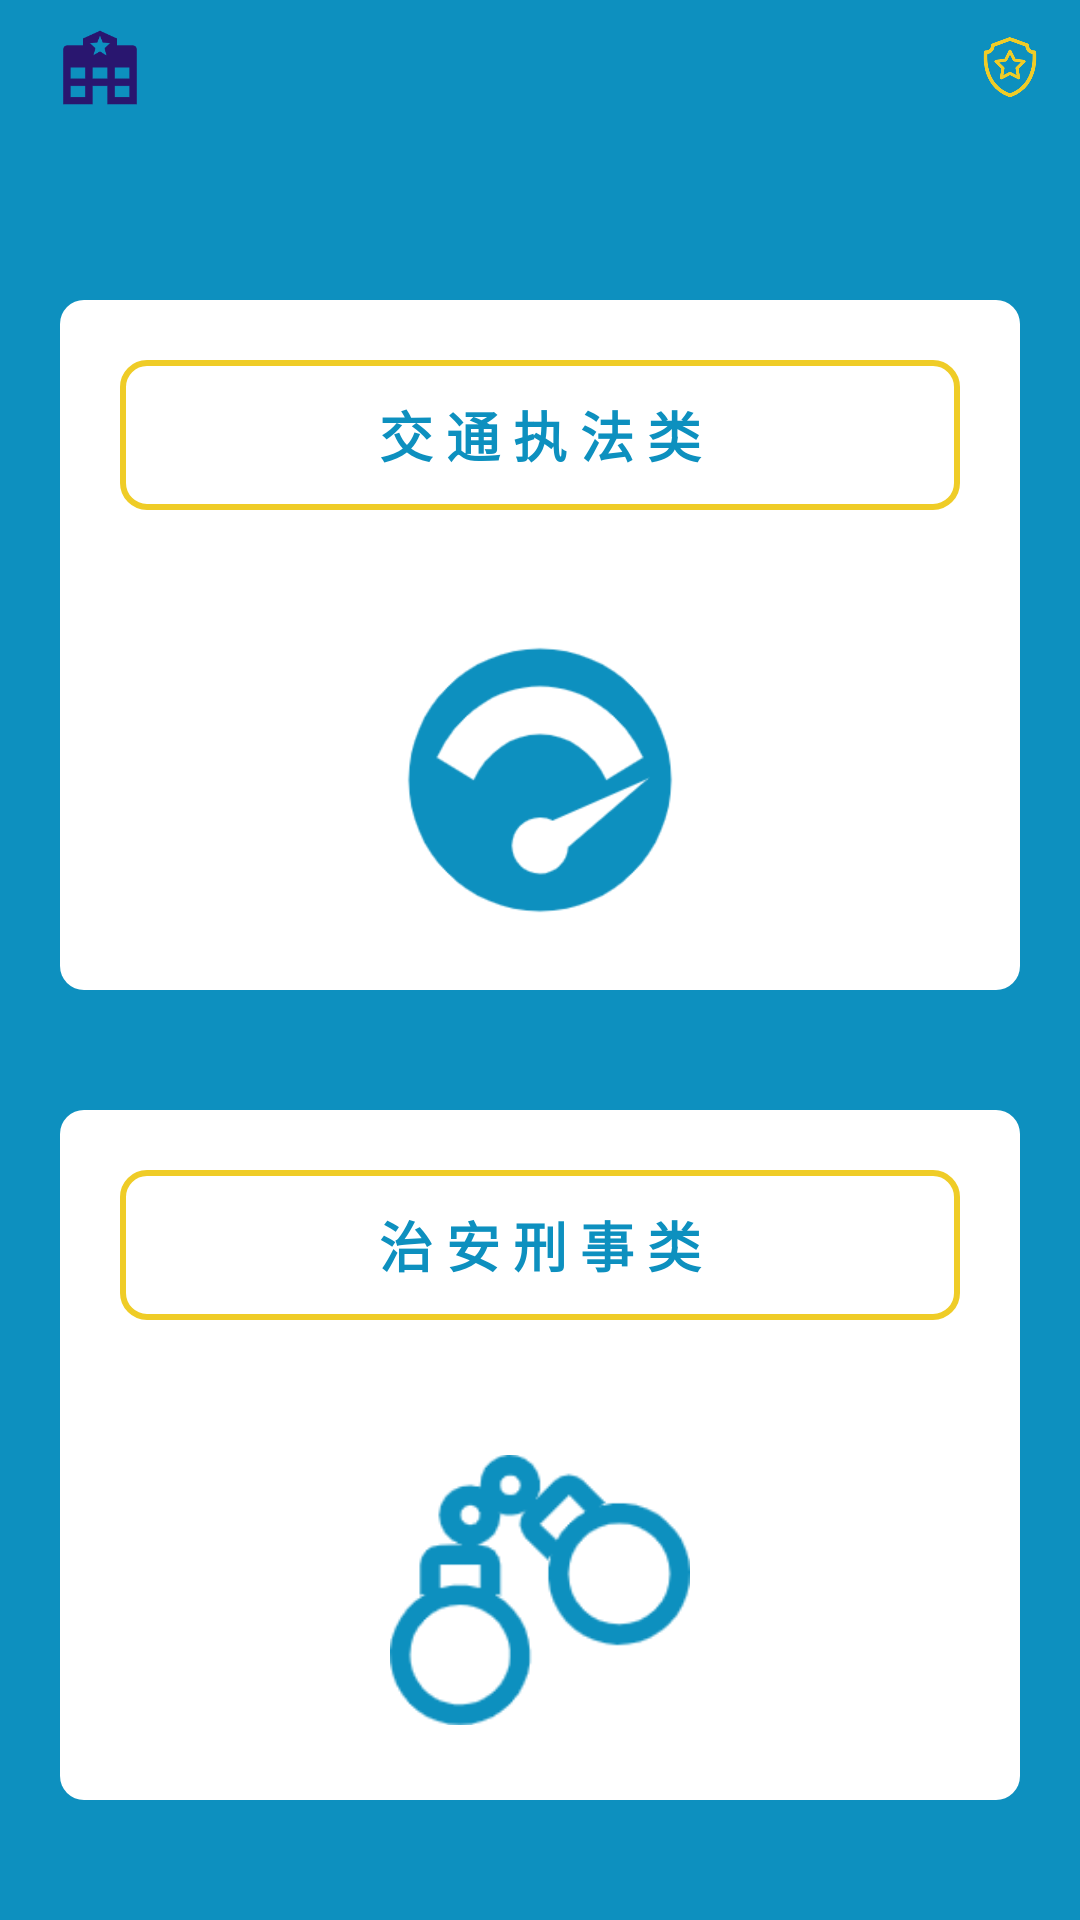

Named icons in this screenshot (1080 × 1920) and their centers, (x=x, y=y):
chaosu: (x=540, y=780)
gongan: (x=100, y=68), (x=1010, y=67)
jubu: (x=540, y=1590)
